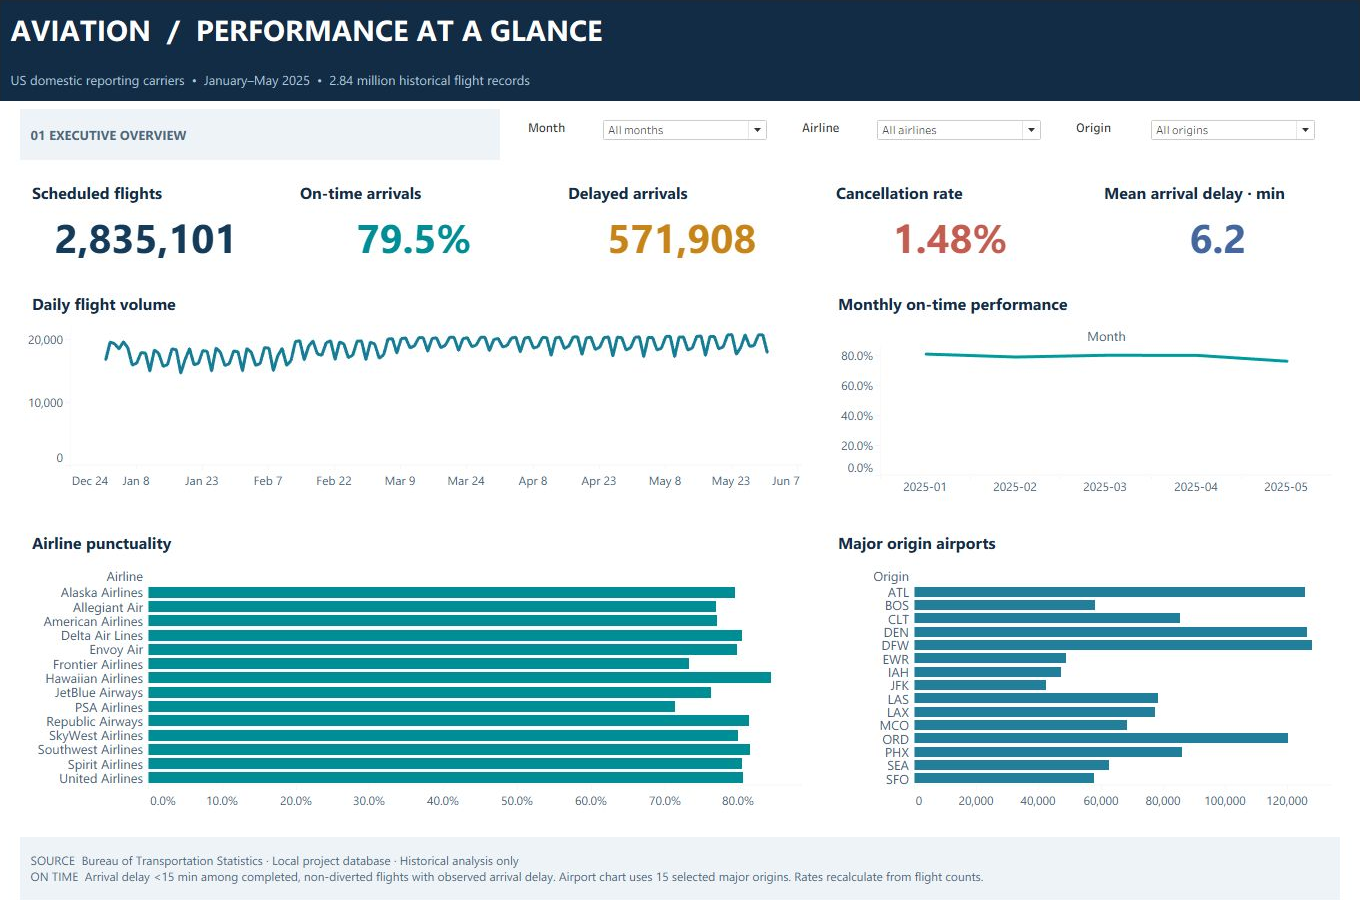

What the dashboard file says about the page in this screenshot:
{"tool":"tableau","page":{"name":"01 Executive Overview","canvas":[1360,900],"ordinal":0},"visuals":[{"type":"text","box":[0,0,1360,58.6]},{"type":"text","box":[0,58.6,1360,42.5]},{"type":"text","box":[20,109.2,480,50.6]},{"type":"parameter","param":"[Parameters].[Month Selection]","box":[520,109.2,258,50.6]},{"type":"parameter","param":"[Parameters].[Airline Selection]","box":[794,109.2,258,50.6]},{"type":"parameter","param":"[Parameters].[Origin Selection]","box":[1068,109.2,258,50.6]},{"type":"worksheet","title":"Scheduled flights","mark":"Text","box":[20,169.9,252,97.1]},{"type":"worksheet","title":"On-time arrivals","mark":"Text","box":[288,169.9,252,97.1]},{"type":"worksheet","title":"Delayed arrivals","mark":"Text","box":[556,169.9,252,97.1]},{"type":"worksheet","title":"Cancellation rate","mark":"Text","box":[824,169.9,252,97.1]},{"type":"worksheet","title":"Mean arrival delay · min","mark":"Text","box":[1092,169.9,252,97.1]},{"type":"worksheet","title":"Daily flight volume","mark":"Line","rows":["Flights"],"cols":["Flight Date"],"box":[20,281.1,790,222.5]},{"type":"worksheet","title":"Monthly on-time performance","mark":"Line","rows":["On Time Rate"],"cols":["Month"],"box":[826,281.1,514,222.5]},{"type":"worksheet","title":"Airline punctuality","mark":"Bar","rows":["Airline"],"cols":["On Time Rate"],"box":[20,519.8,790,303.4]},{"type":"worksheet","title":"Major origin airports","mark":"Bar","rows":["Origin"],"cols":["Flights"],"box":[826,519.8,514,303.4]},{"type":"text","box":[20,837.3,1320,62.7]}]}

Visuals, with their boxes in screenshot pixels (x1, y1, x2, y2), scaled from the page's 1360x900 canvas onto the 1360x900 screenshot:
text: detection(0, 0, 1359, 59)
text: detection(0, 59, 1359, 101)
text: detection(20, 109, 500, 160)
parameter: detection(520, 109, 778, 160)
parameter: detection(794, 109, 1052, 160)
parameter: detection(1068, 109, 1326, 160)
"Scheduled flights" worksheet (Text marks): detection(20, 170, 272, 267)
"On-time arrivals" worksheet (Text marks): detection(288, 170, 540, 267)
"Delayed arrivals" worksheet (Text marks): detection(556, 170, 808, 267)
"Cancellation rate" worksheet (Text marks): detection(824, 170, 1076, 267)
"Mean arrival delay · min" worksheet (Text marks): detection(1092, 170, 1344, 267)
"Daily flight volume" worksheet (Line marks): detection(20, 281, 810, 504)
"Monthly on-time performance" worksheet (Line marks): detection(826, 281, 1340, 504)
"Airline punctuality" worksheet (Bar marks): detection(20, 520, 810, 823)
"Major origin airports" worksheet (Bar marks): detection(826, 520, 1340, 823)
text: detection(20, 837, 1340, 899)
